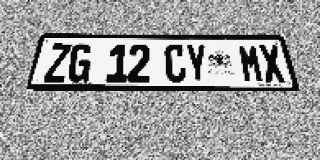1: (106, 44, 129, 82)
2: (128, 44, 150, 82)
C: (165, 44, 187, 82)
G: (66, 44, 93, 82)
M: (238, 45, 265, 83)
X: (258, 45, 287, 83)
Y: (185, 44, 209, 82)
Z: (43, 44, 72, 82)
